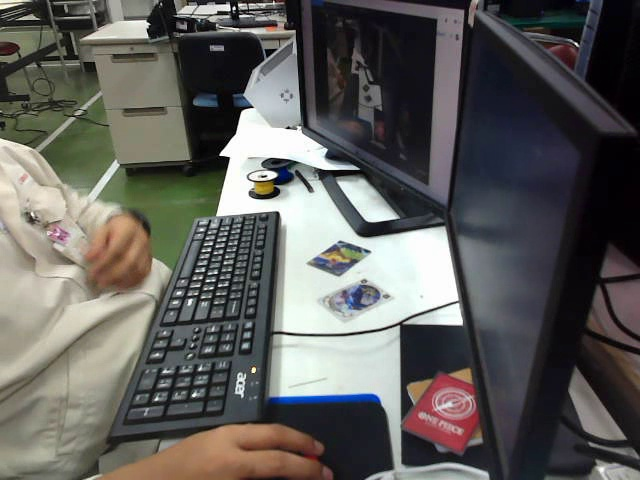can: (318, 273, 389, 321), (303, 239, 377, 276)
